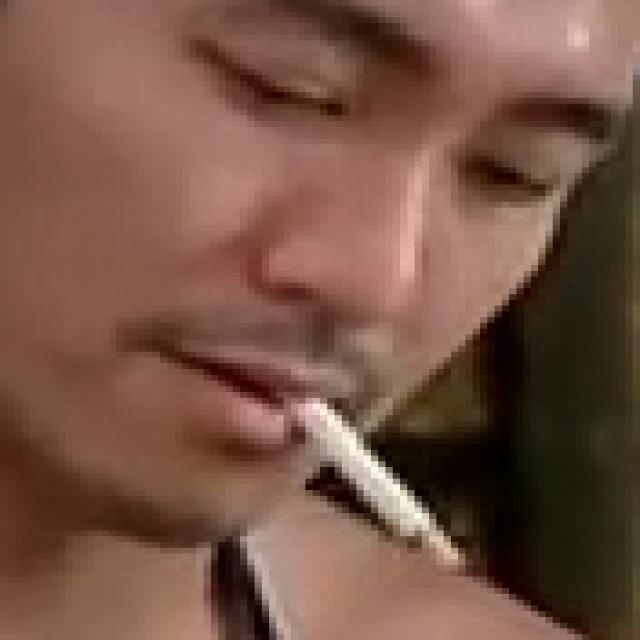smoking: (279, 388, 458, 570)
